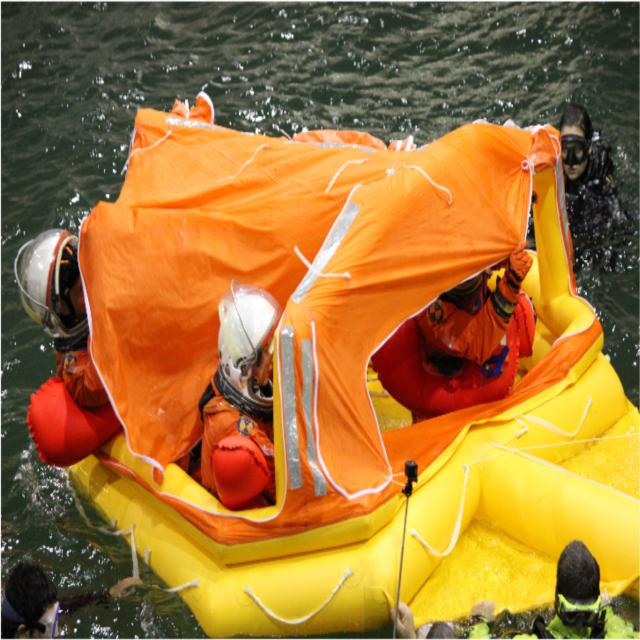Mannequin_wearing_orange-colored_life_preserver_unit_ LPU: (371, 294, 535, 413), (26, 376, 122, 466), (212, 434, 271, 510)
Multi-person_life_raft: (68, 89, 640, 638)
